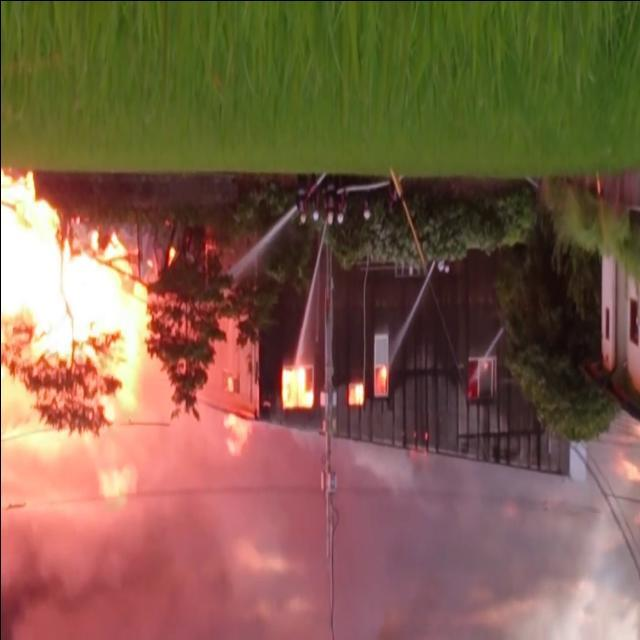Fire: (1, 176, 149, 504), (220, 408, 254, 455), (279, 365, 313, 409), (347, 383, 363, 405), (379, 367, 387, 392), (224, 375, 234, 392), (167, 246, 175, 262)
